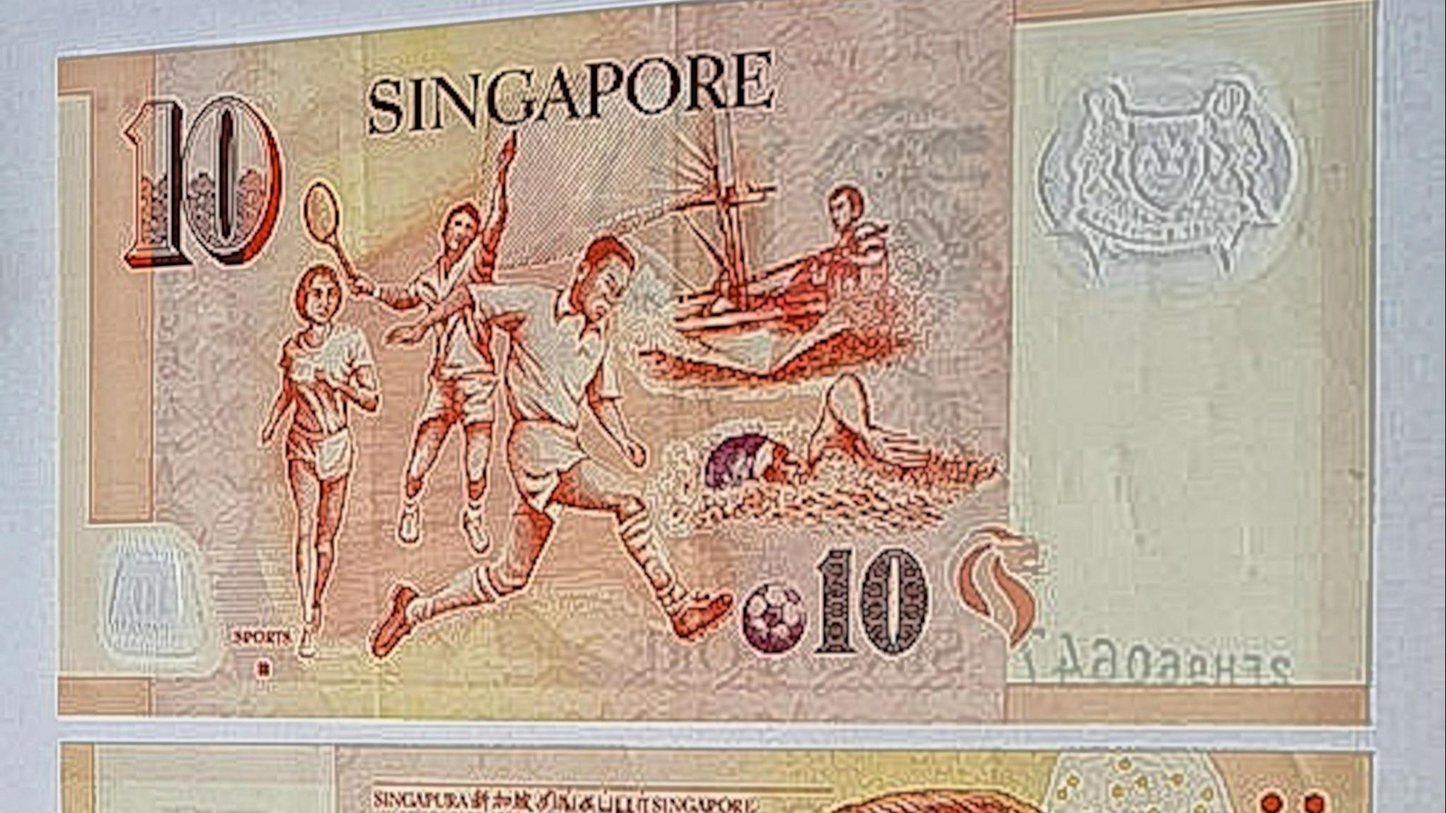10SingaporeDollar: (62, 0, 1368, 718)
